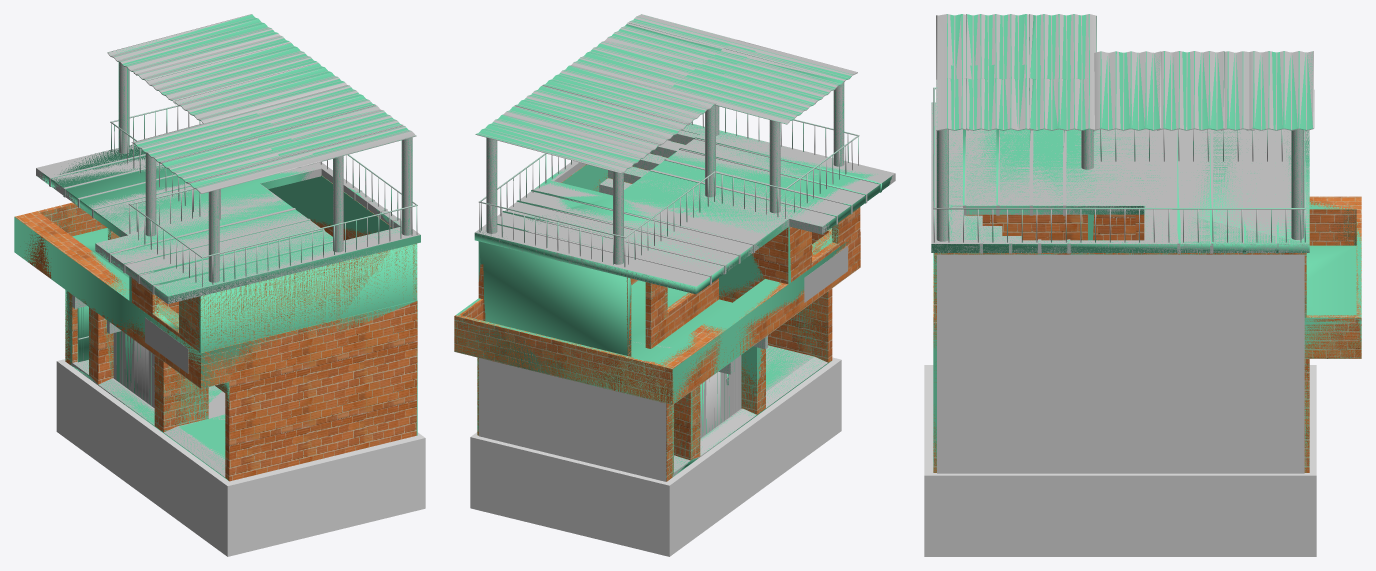
Rendered from CASA 15.fbx.
3 views of the same model, side by side, from view 1: azimuth 30°, elevation 25°; view 2: azimuth 150°, elevation 25°; view 3: azimuth 270°, elevation 25° (orthographic). The views are drawn at different scales.
Parts seen in each view (by area): view 1: Casa15_LOD0, UTM_Casa15, Cube_LOD0; view 2: Casa15_LOD0, UTM_Casa15, Cube_LOD0, OCC_Oclusion1; view 3: OCC_Oclusion2, Casa15_LOD0, UTM_Casa15, Cube_LOD0.
Part boxes in pixels (box(x1,y1,x2,y2)): Casa15_LOD0: box(15, 14, 420, 481); UTM_Casa15: box(14, 14, 420, 480); Cube_LOD0: box(56, 359, 425, 556); Casa15_LOD0: box(454, 14, 895, 481); UTM_Casa15: box(454, 14, 892, 479); Cube_LOD0: box(470, 357, 841, 556); OCC_Oclusion1: box(479, 358, 666, 481); OCC_Oclusion2: box(937, 254, 1304, 473); Casa15_LOD0: box(931, 14, 1361, 472); UTM_Casa15: box(931, 14, 1361, 472); Cube_LOD0: box(924, 365, 1316, 556).
Size of what is drawn, in the model's own units: 754 by 1050 by 976.
